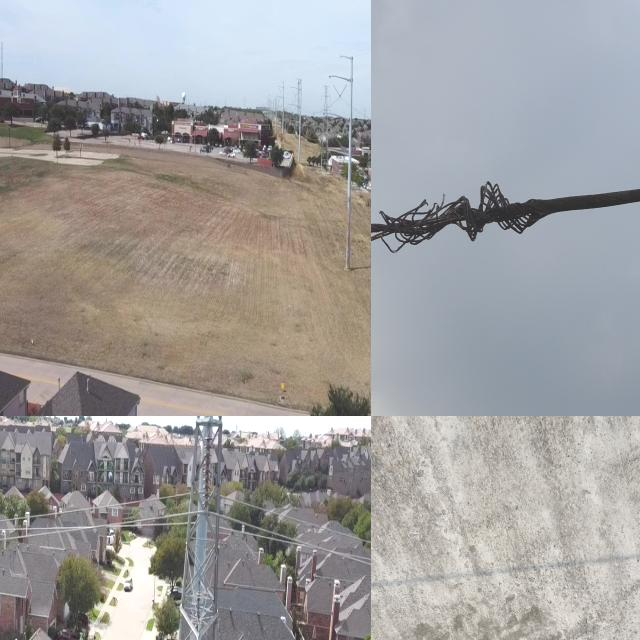杆塔: (175, 416, 225, 640), (318, 79, 332, 175)
正常绝缘子: (202, 424, 214, 513)
电缆破损: (382, 435, 640, 545), (371, 165, 548, 264)
